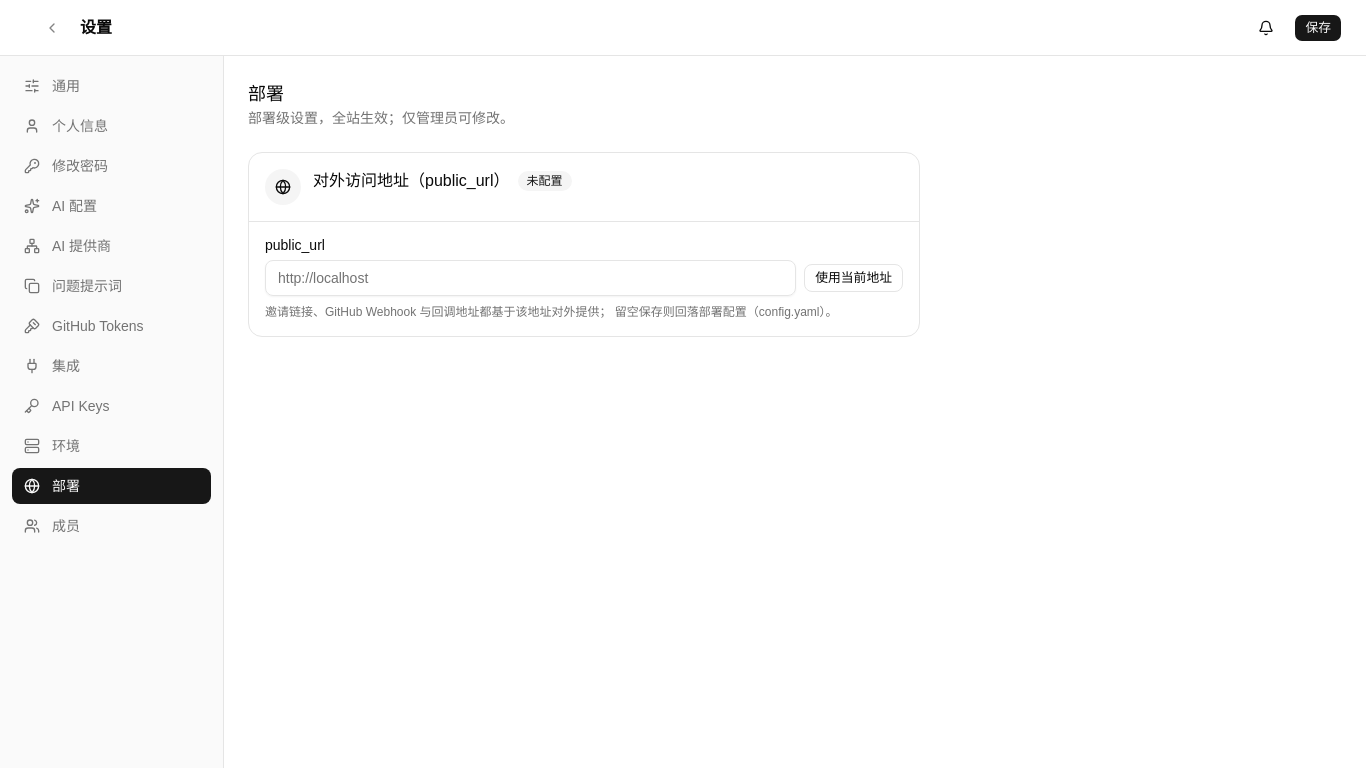
Test: DeploymentPage admin view › shows the unconfigured badge and suggests the current origin
Expected: the icon "未配置" is shown, [518,171,572,191]
Expected: the field labelled "public_url" is empty, [265,260,796,296]
Click the button "使用当前地址" at [854, 278], box [804,264,903,292]
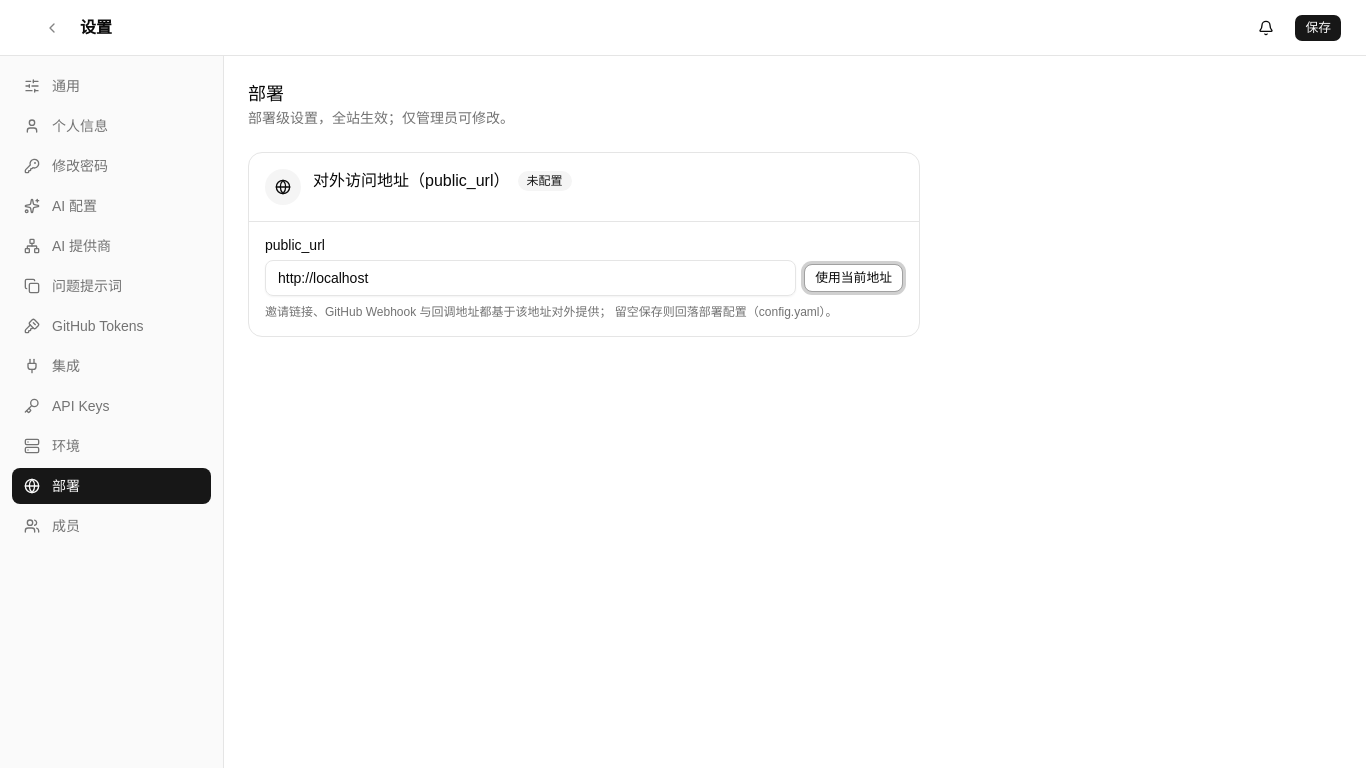
Expected: the field labelled "public_url" holds "http://localhost", [265,260,796,296]
